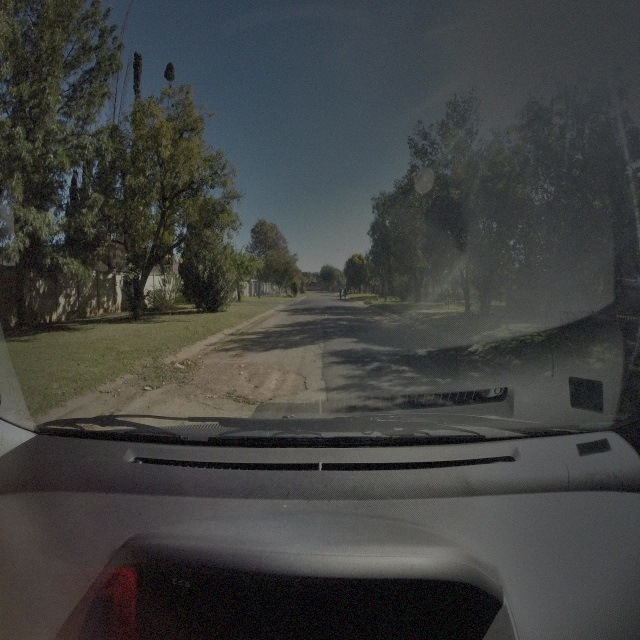pothole: (187, 356, 307, 406)
